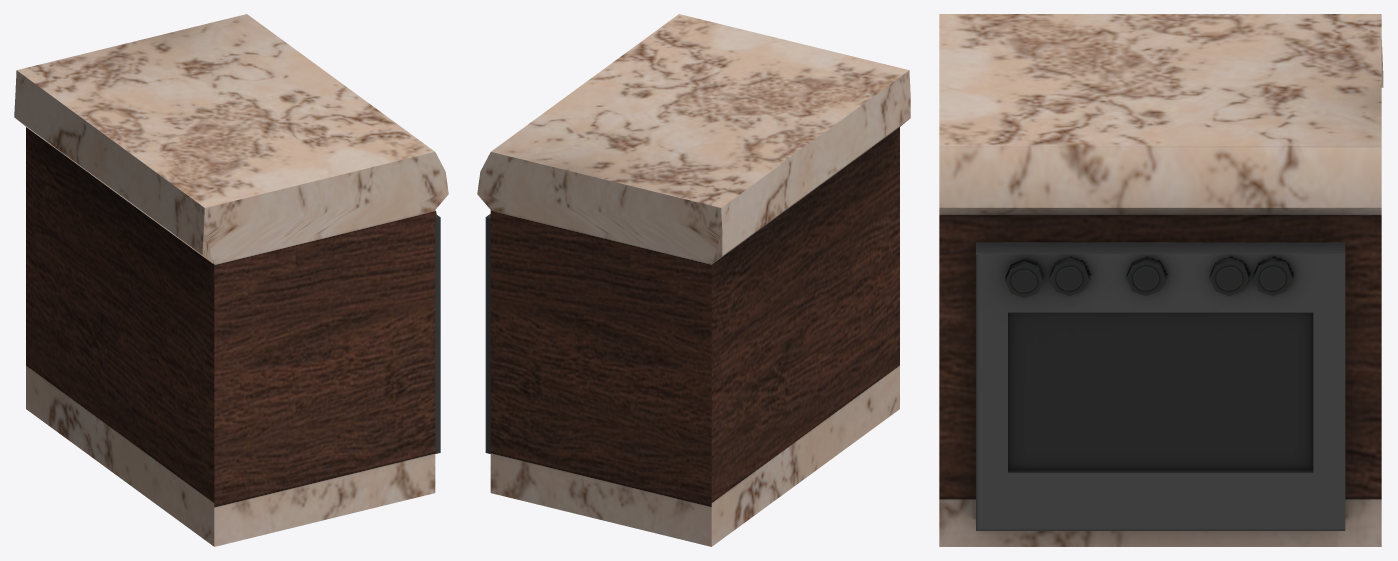
The model's file is m_kitchen_oven_2.fbx.
3 renders of one model, left to right at view 1: azimuth 30°, elevation 25°; view 2: azimuth 150°, elevation 25°; view 3: azimuth 270°, elevation 25°, orthographic. The views are drawn at different scales.
Visible parts, largest first — view 1: m_oven_2; view 2: m_oven_2; view 3: m_oven_2.
Part boxes in pixels (bbox=[...]): m_oven_2: bbox=[14, 14, 448, 546]; m_oven_2: bbox=[477, 14, 910, 546]; m_oven_2: bbox=[939, 14, 1383, 546].
Size of the model in its own units: 80.79 by 100 by 100.
